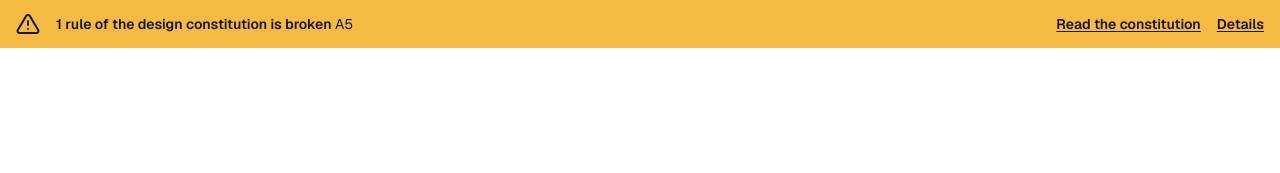
Test: constitution › ConstitutionBanner › details open to the Do and Don’t lines and the note
The image size is (1280, 173).
Expected: the text "outline: none on buttons" is not shown
Click the button "Details": coordinates (1240, 24) [1217, 14, 1264, 34]
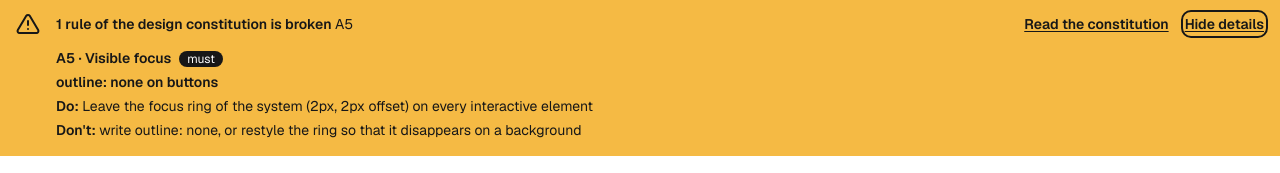
Expected: the text "outline: none on buttons" is shown, [56, 73, 218, 91]
Expected: the text "Leave the focus ring of the system (2px, 2px offset) on every interactive element" is shown, [82, 97, 593, 115]
Expected: the button "Hide details" is expanded, [1185, 14, 1264, 34]
